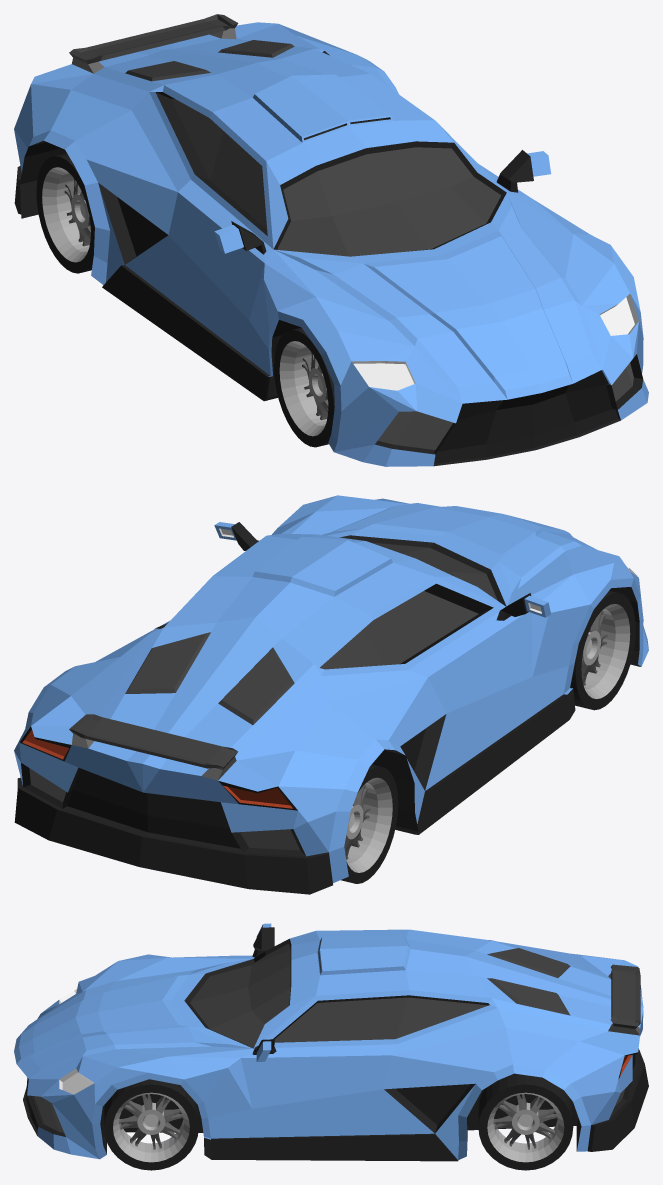
File: mazzantievantrav8.fbx
The picture shows the model from 3 angles, top to bottom: view 1: azimuth 30°, elevation 25°; view 2: azimuth 150°, elevation 25°; view 3: azimuth 270°, elevation 25°; orthographic projection. The views are drawn at different scales.
Visible parts, largest first — view 1: BlueBody, FrontRight, BackRight; view 2: BlueBody, FrontRight, BackRight; view 3: BlueBody, BackLeft, FrontLeft.
Part boxes in pixels (x1,y1,x2,y2): BlueBody: (14, 14, 648, 466); FrontRight: (274, 327, 334, 447); BackRight: (36, 153, 94, 273); BlueBody: (14, 495, 648, 894); FrontRight: (570, 590, 635, 710); BackRight: (341, 764, 398, 883); BlueBody: (14, 923, 648, 1161); BackLeft: (478, 1073, 573, 1170); FrontLeft: (104, 1079, 198, 1170).
Bounding box in the file's own units: 2.03 × 4.3 × 1.24.
